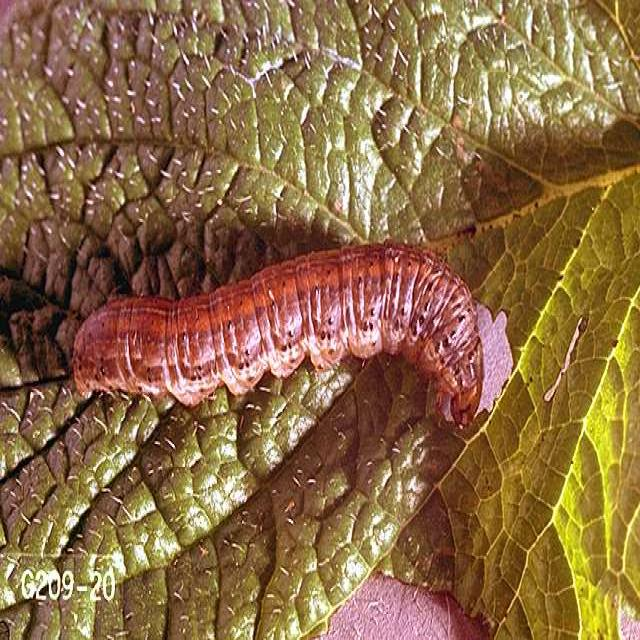Cutworm: (71, 243, 488, 431)
